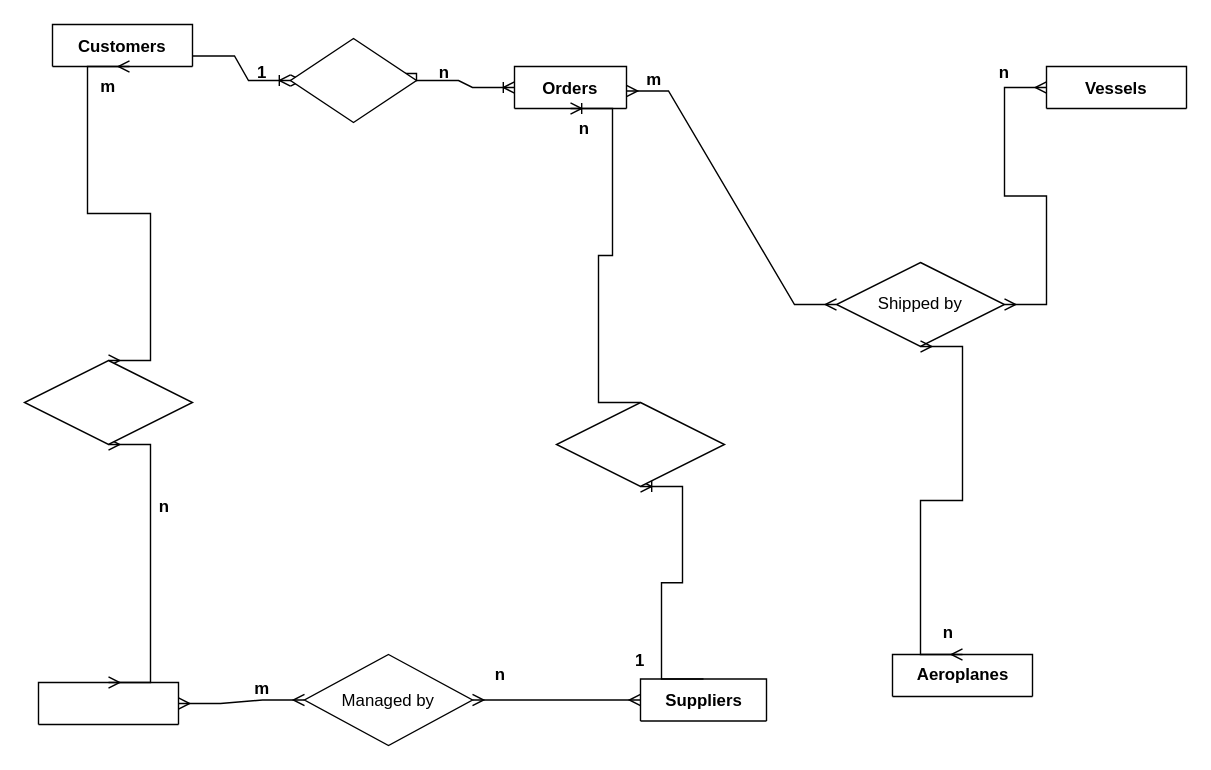
The diagram is 1211 pixels wide and 770 high, and some of its shapes have lost their labels. The shapes that lost their labels are listed below. From the top down, each one's centre as x and y in pixels, then its label:
At (352,79): "Places".
At (107,401): "Assisted by".
At (639,443): "Supplied".
At (107,702): "employees".
